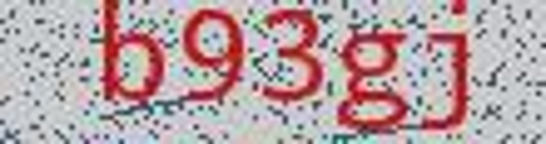3: (252, 2, 331, 117)
9: (176, 4, 253, 121)
b: (81, 1, 173, 116)
g: (332, 19, 412, 139)
j: (417, 1, 485, 135)
